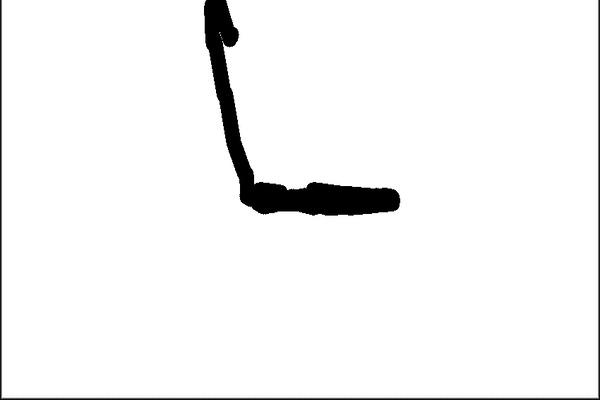L: (195, 0, 405, 222)
